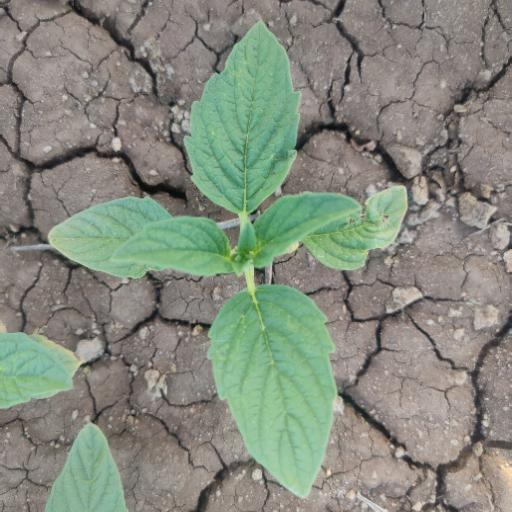crop: (45, 19, 370, 507)
